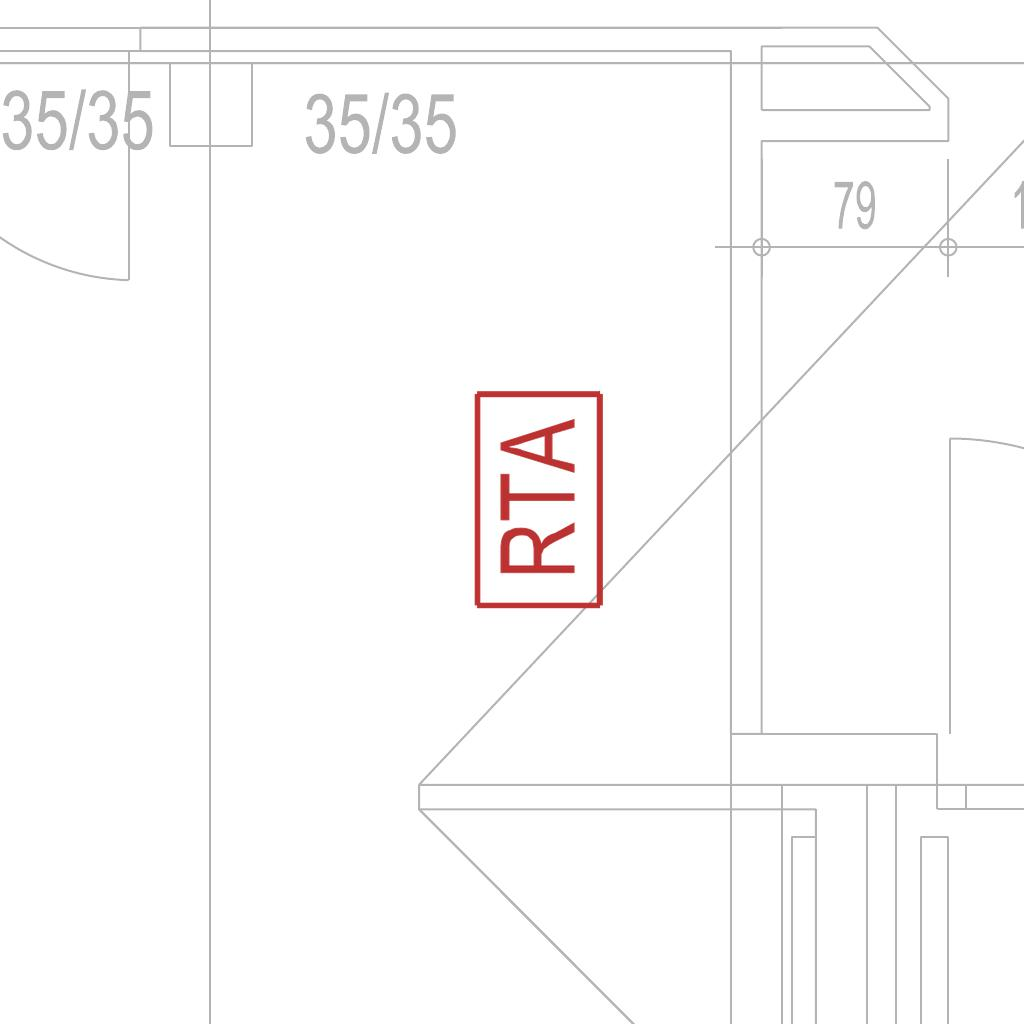Ruf-und_Abstelltaster: (470, 388, 608, 616)
